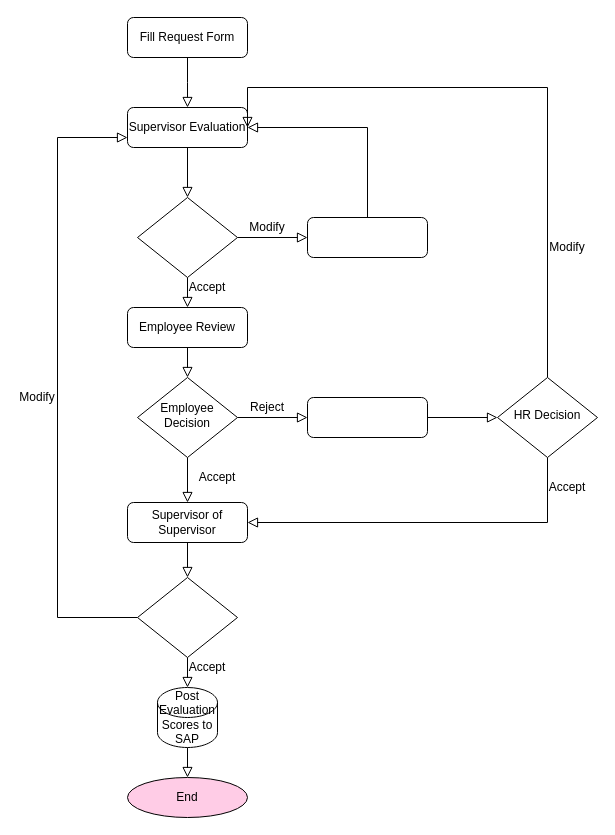
This 615x835 diagram has some shape labels left out. The shapes that lost their labels are listed below. From the top down, each one's centre as x and y in pixels, then its label:
At point 187,237: "Supervisor Decision".
At point 367,237: "Employee Incorporate Recomendations".
At point 367,417: "HR Review".
At point 187,617: "Supervisor of Supervisor Decision".
